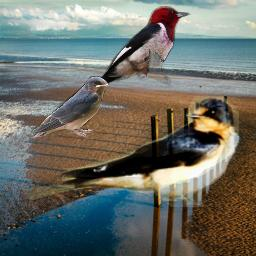Swallow: (24, 96, 239, 207), (31, 76, 110, 140)
Woodpecker: (84, 5, 193, 88)
